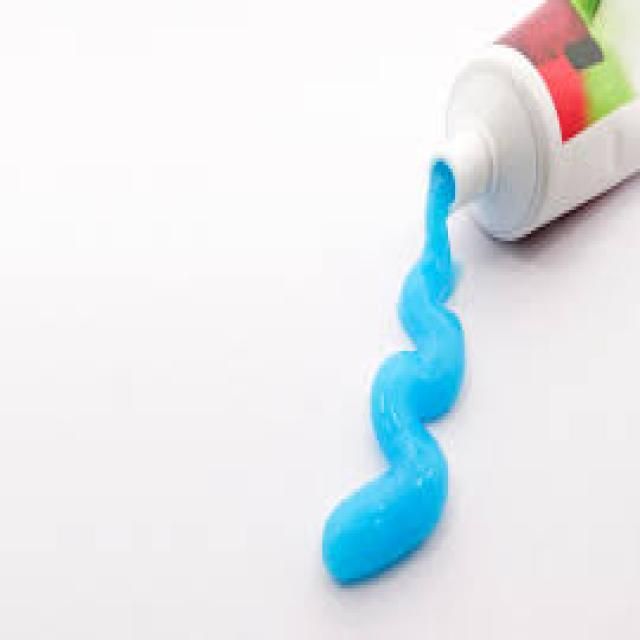toothpaste: (406, 2, 640, 235)
